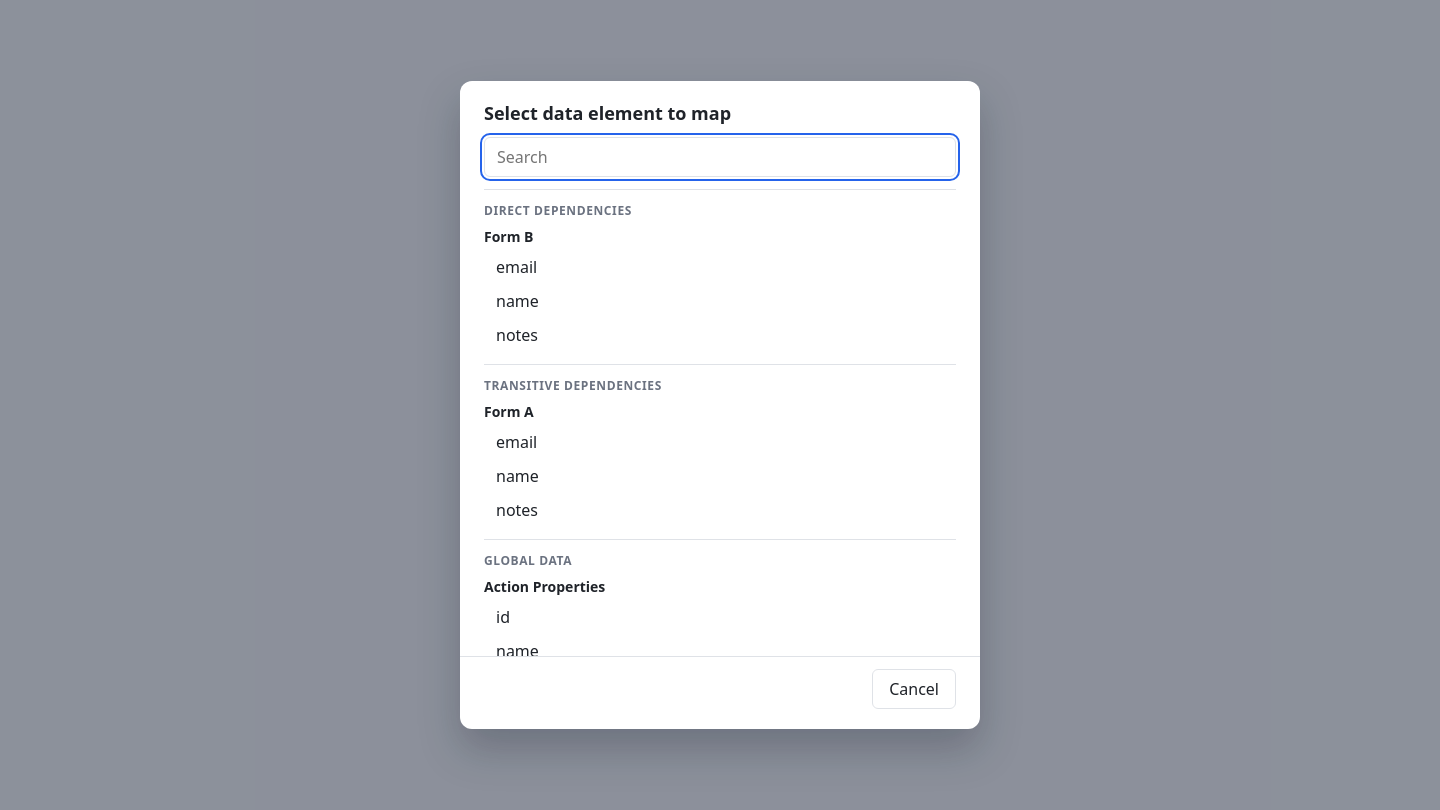
Scenario: DataSourceModal › says when nothing matches the search
Type "zip" into the search field at (720, 157), box [484,137,956,177]
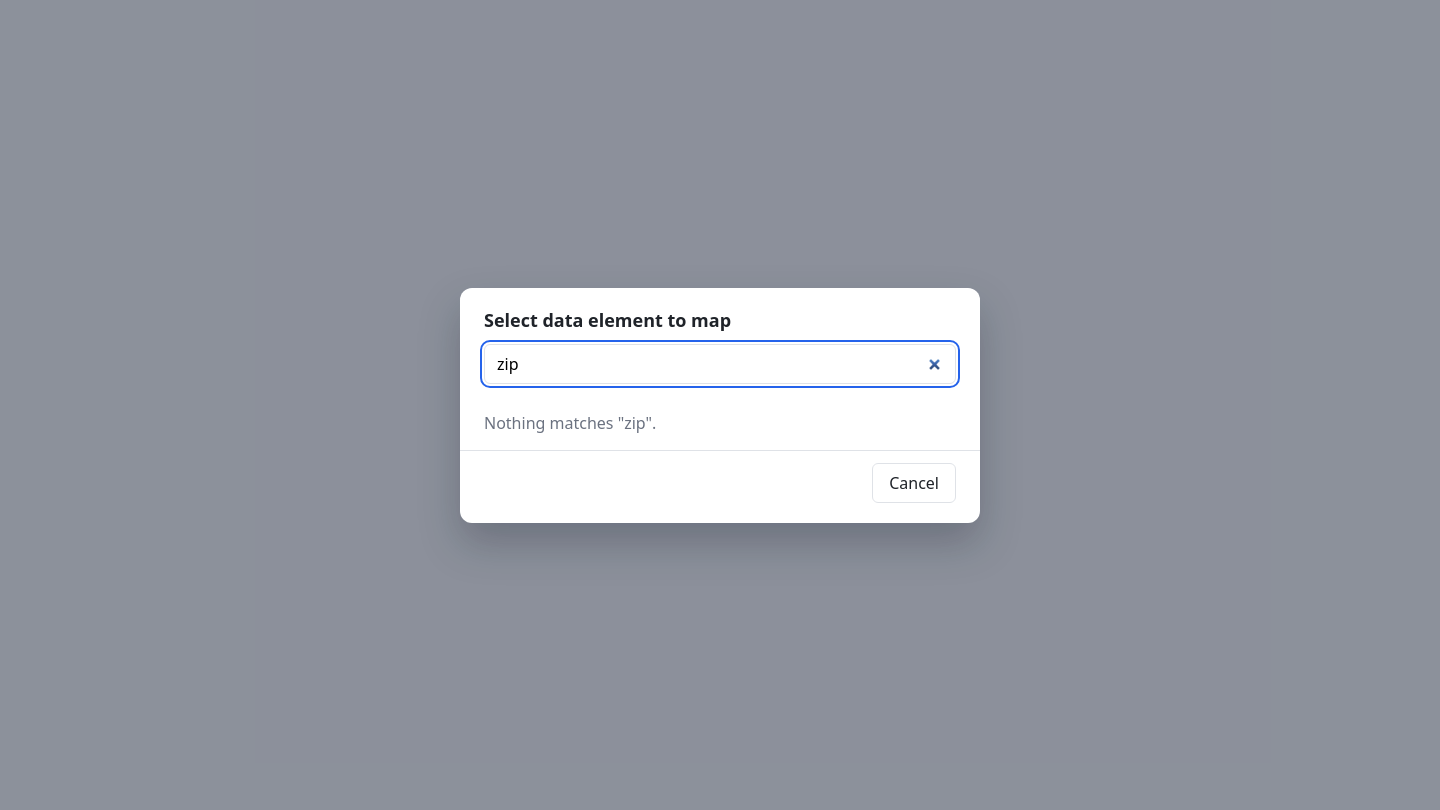
Expected: the text "Nothing matches \"zip\"." is shown, [484,412,656,434]
